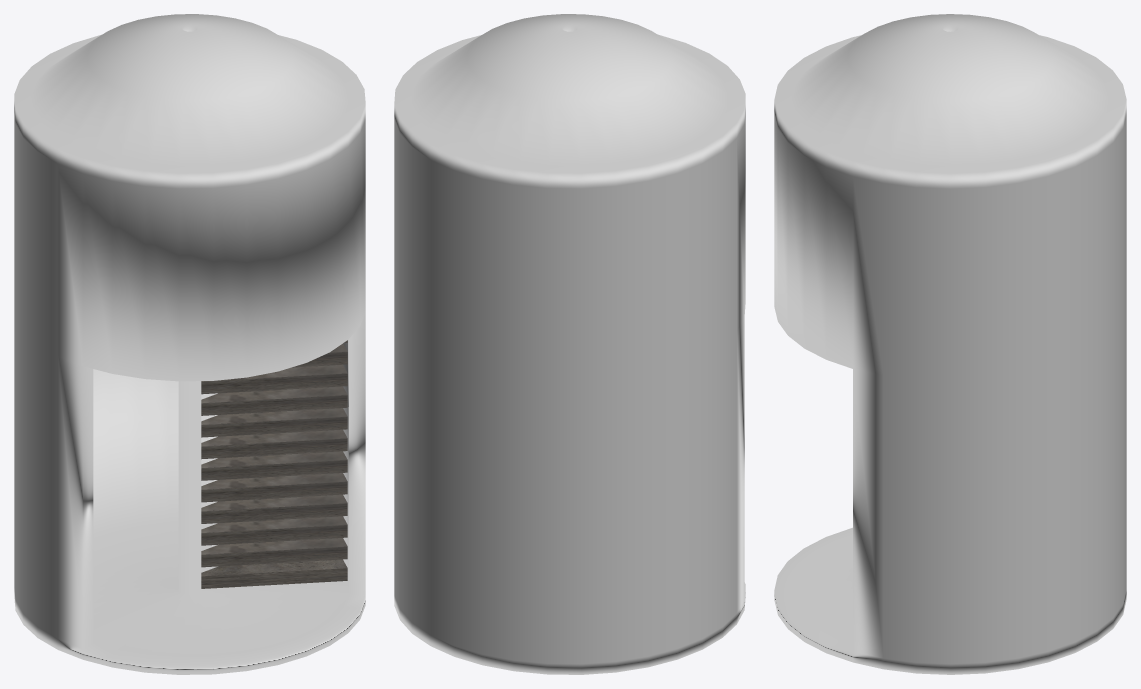
File: ExitStairs.fbx
3 renders of one model, left to right at view 1: azimuth 30°, elevation 25°; view 2: azimuth 150°, elevation 25°; view 3: azimuth 270°, elevation 25°, orthographic.
Visible parts, largest first — view 1: StairsBase, Stairs.008, Stairs.004, Stairs.006, Stairs.001, Stairs.002, Stairs, Stairs.005, Stairs.007, Stairs.003, Stairs.009, Stairs.010; view 2: StairsBase; view 3: StairsBase.
Part boxes in pixels (<box>): StairsBase: <box>14,14,365,674</box>; Stairs.008: <box>201,386,347,415</box>; Stairs.004: <box>201,473,347,502</box>; Stairs.006: <box>201,429,347,459</box>; Stairs.001: <box>201,538,347,567</box>; Stairs.002: <box>201,516,347,545</box>; Stairs: <box>201,559,347,588</box>; Stairs.005: <box>201,451,347,480</box>; Stairs.007: <box>201,408,347,437</box>; Stairs.003: <box>201,494,347,523</box>; Stairs.009: <box>201,364,347,394</box>; Stairs.010: <box>292,343,347,367</box>; StairsBase: <box>394,14,745,674</box>; StairsBase: <box>774,14,1126,674</box>.
Size of the model in its own units: 221 by 397 by 221.
